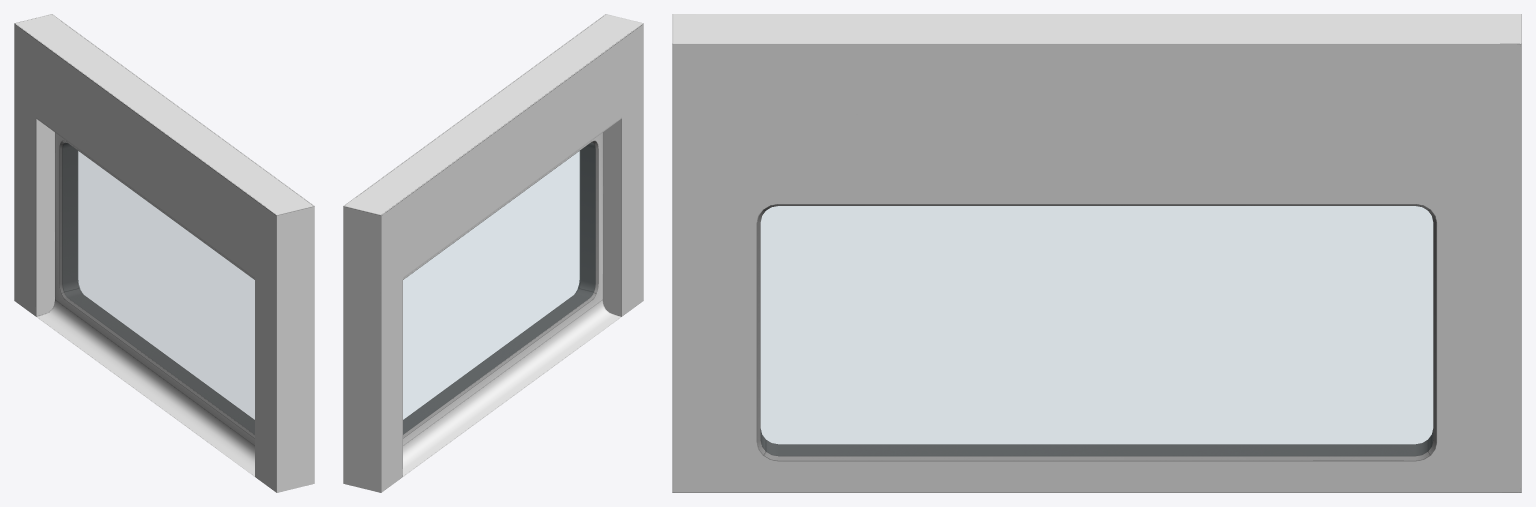
File: Wall_Window_01.FBX
The picture shows the model from 3 angles, left to right: view 1: azimuth 30°, elevation 25°; view 2: azimuth 150°, elevation 25°; view 3: azimuth 270°, elevation 25°; orthographic projection. The views are drawn at different scales.
Visible parts, largest first — view 1: Wall_Window_01; view 2: Wall_Window_01; view 3: Wall_Window_01.
Boxes of the visible parts, x1,y1,x2,y2 form: Wall_Window_01: [14, 14, 314, 492]; Wall_Window_01: [343, 14, 643, 492]; Wall_Window_01: [672, 14, 1521, 492].
Size of the model in its own units: 100 by 700 by 1200.
3 materials, 2 textured.
